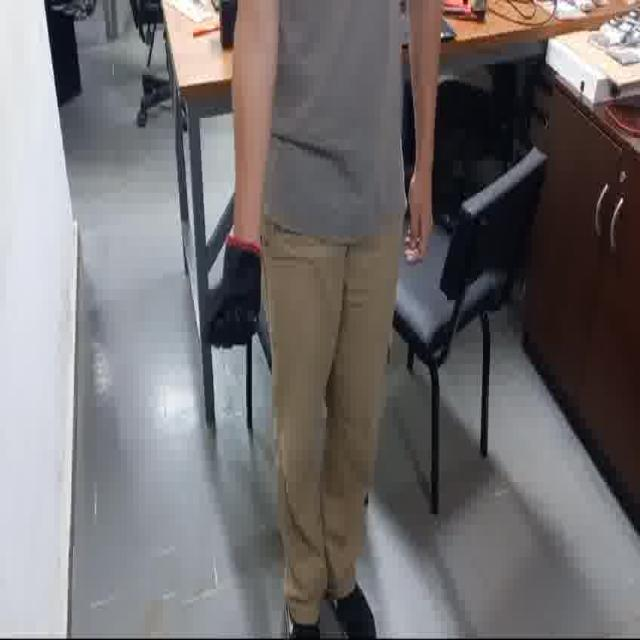Gloves: (202, 236, 263, 348)
